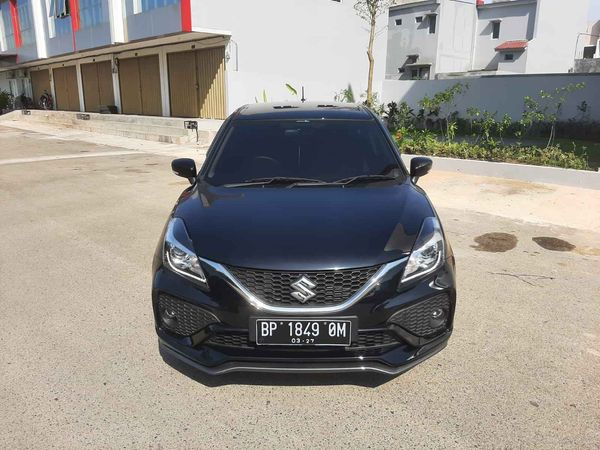plate: (253, 318, 356, 351)
